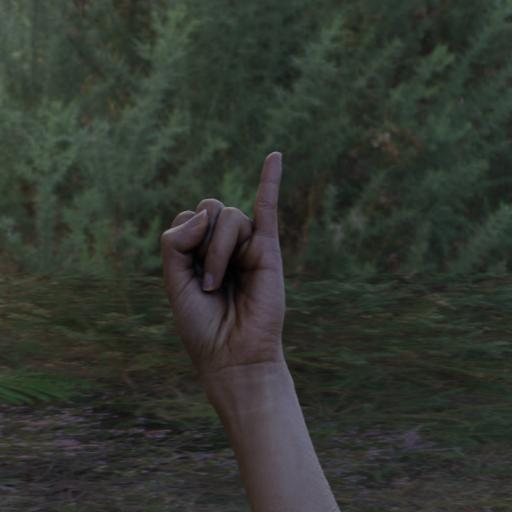I: (155, 150, 295, 363)
